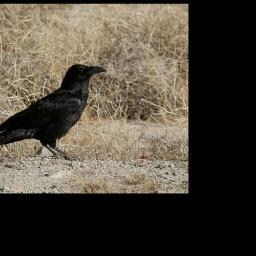Crow: (0, 64, 108, 161)
